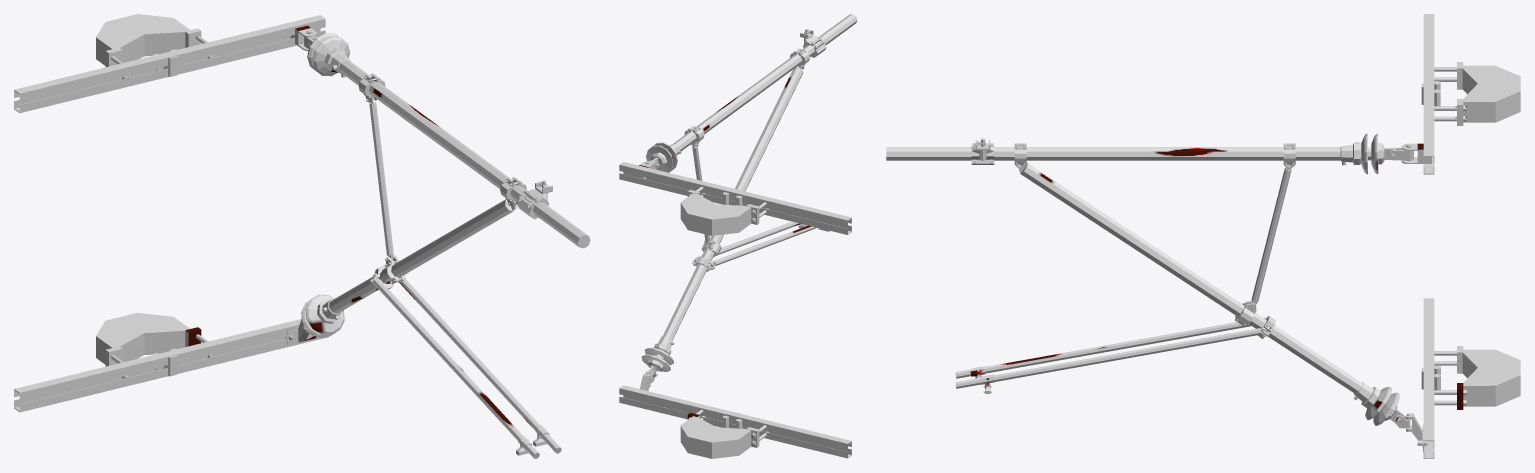
Rendered from Bracket5aR.obj.
The picture shows the model from 3 angles, left to right: view 1: azimuth 30°, elevation 25°; view 2: azimuth 150°, elevation 25°; view 3: azimuth 270°, elevation 25°; orthographic projection. The views are drawn at different scales.
Visible parts, largest first — view 1: obj2, obj4, obj1, obj7, obj3, obj8; view 2: obj2, obj4, obj1, obj7, obj3, obj8; view 3: obj2, obj1, obj8, obj4, obj7.
Boxes of the visible parts, x1=… form: obj2: x1=285, y1=25, x2=590, y2=458; obj4: x1=14, y1=15, x2=325, y2=112; obj1: x1=96, y1=14, x2=208, y2=370; obj7: x1=14, y1=319, x2=301, y2=400; obj3: x1=14, y1=336, x2=325, y2=412; obj8: x1=96, y1=42, x2=214, y2=378; obj2: x1=633, y1=14, x2=857, y2=390; obj4: x1=619, y1=162, x2=851, y2=234; obj1: x1=680, y1=186, x2=766, y2=450; obj7: x1=619, y1=385, x2=851, y2=449; obj3: x1=619, y1=395, x2=851, y2=458; obj8: x1=680, y1=193, x2=768, y2=458; obj2: x1=886, y1=133, x2=1431, y2=451; obj1: x1=1434, y1=62, x2=1520, y2=399; obj8: x1=1434, y1=77, x2=1520, y2=409; obj4: x1=1423, y1=14, x2=1434, y2=174; obj7: x1=1423, y1=298, x2=1434, y2=447.
Size of the model in its own units: 1.19 by 1.23 by 2.24.
Materials: 1 (1 with a texture image).
